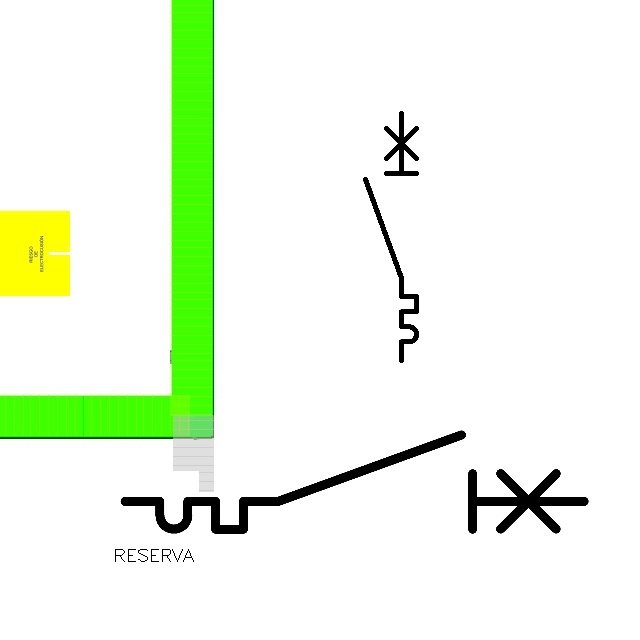interruptor_termomagnetico: (113, 423, 596, 541), (359, 107, 423, 367)
